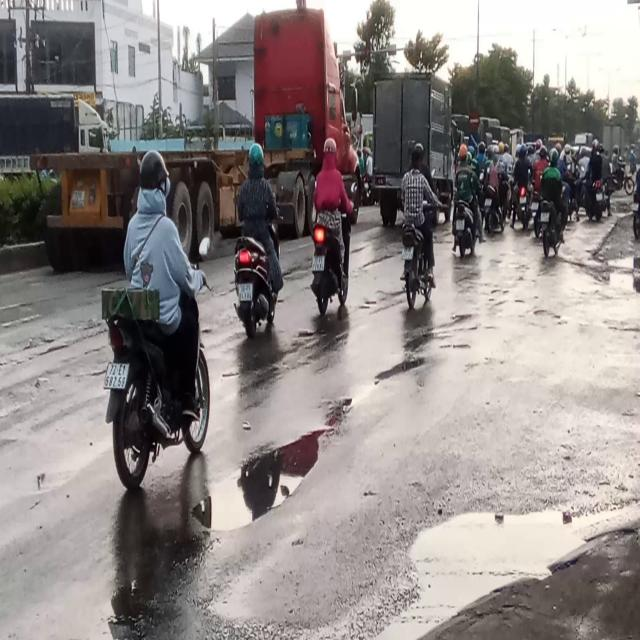bien_trang: (100, 357, 130, 392)
